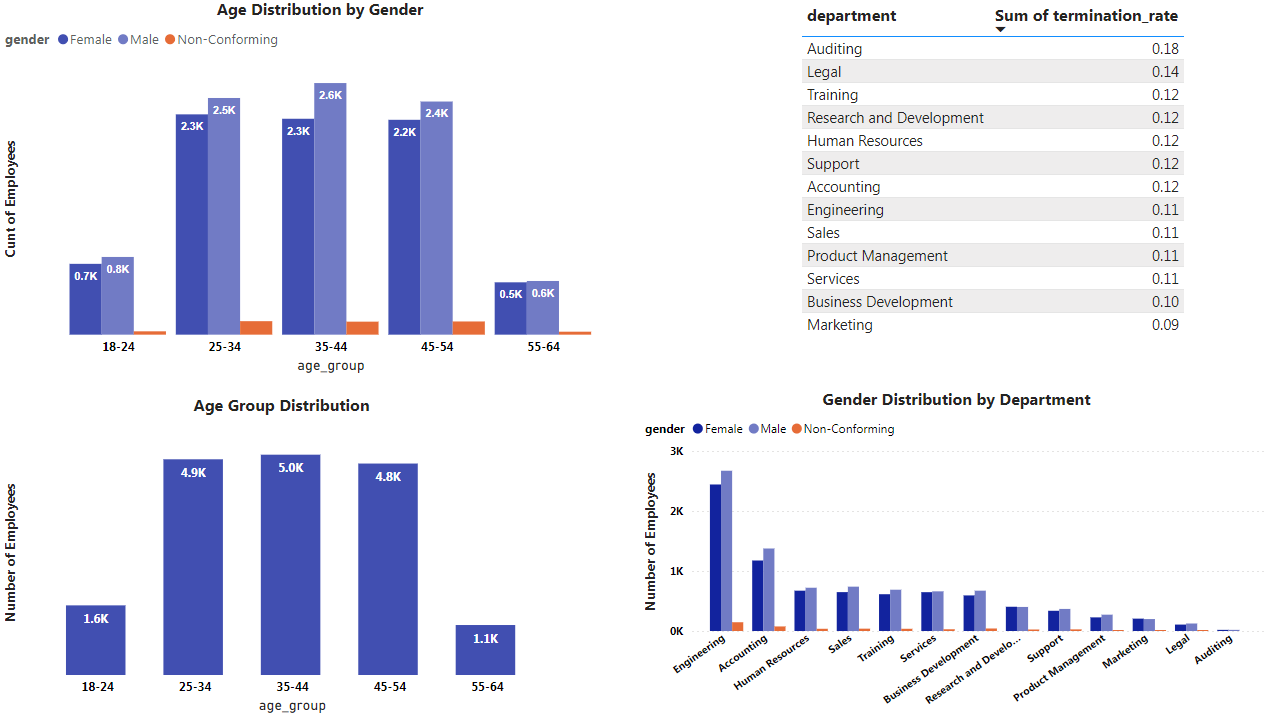

What the dashboard file says about the page in this screenshot:
{"tool":"powerbi","page":{"name":"Details","canvas":[1280,720],"ordinal":1},"visuals":[{"type":"columnChart","title":"Age Group Distribution","fields":{"Category":["age_destripution.age_group"],"Y":["Sum(age_destripution.count)"]},"box":[0,395.8,563.3,324.2],"z":0},{"type":"clusteredColumnChart","title":"Age Distribution by Gender","fields":{"Category":["age_gender.age_group"],"Y":["Sum(age_gender.count)"],"Series":["age_gender.gender"]},"box":[0,0,640.3,379.7],"z":1000},{"type":"tableEx","fields":{"Values":["turnover_rate.department","Sum(turnover_rate.termination_rate)"]},"box":[796.1,0,483.6,366.3],"z":2000},{"type":"clusteredColumnChart","title":"Gender Distribution by Department","fields":{"Category":["gender_department.department"],"Y":["Sum(gender_department.count)"],"Series":["gender_department.gender"]},"box":[640.3,389.6,633.1,330.4],"z":3000}]}

Visuals, with their boxes in screenshot pixels (x1, y1, x2, y2), scaled from the page's 1280x720 canvas onto the 1276x715 screenshot:
"Age Group Distribution" columnChart: <box>0,393,562,714</box>
"Age Distribution by Gender" clusteredColumnChart: <box>0,0,638,377</box>
tableEx - turnover_rate.department x Sum(turnover_rate.termination_rate): <box>794,0,1275,364</box>
"Gender Distribution by Department" clusteredColumnChart: <box>638,387,1269,714</box>
